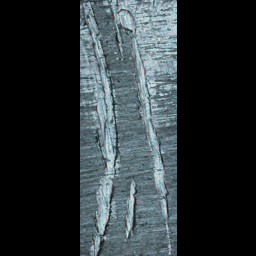d: (102, 0, 175, 254), (79, 0, 119, 255), (121, 177, 139, 240)
